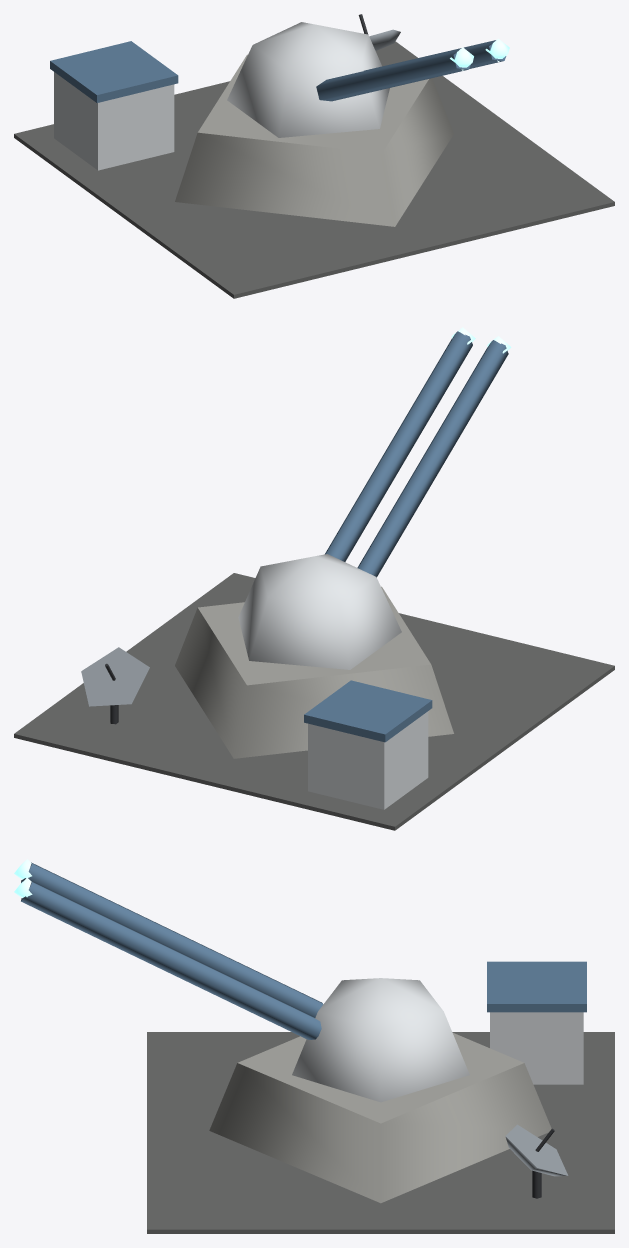
The model's file is bld_special_planetary_defense_a09_lod2.glb.
3 views of the same model, one above another, from view 1: azimuth 30°, elevation 25°; view 2: azimuth 150°, elevation 25°; view 3: azimuth 270°, elevation 25° (orthographic). The views are drawn at different scales.
Visible parts, largest first — view 1: body, turret, antenna; view 2: body, turret, antenna; view 3: body, turret, antenna.
Boxes of the visible parts, <box> form: body: <box>14,41,614,298</box>; turret: <box>227,22,509,137</box>; antenna: <box>358,14,400,50</box>; body: <box>14,573,614,830</box>; turret: <box>238,327,511,669</box>; antenna: <box>81,647,149,724</box>; body: <box>147,961,614,1233</box>; turret: <box>14,859,469,1102</box>; antenna: <box>505,1124,568,1198</box>.
Bounding box in the file's own units: 15 × 9.43 × 19.26.
